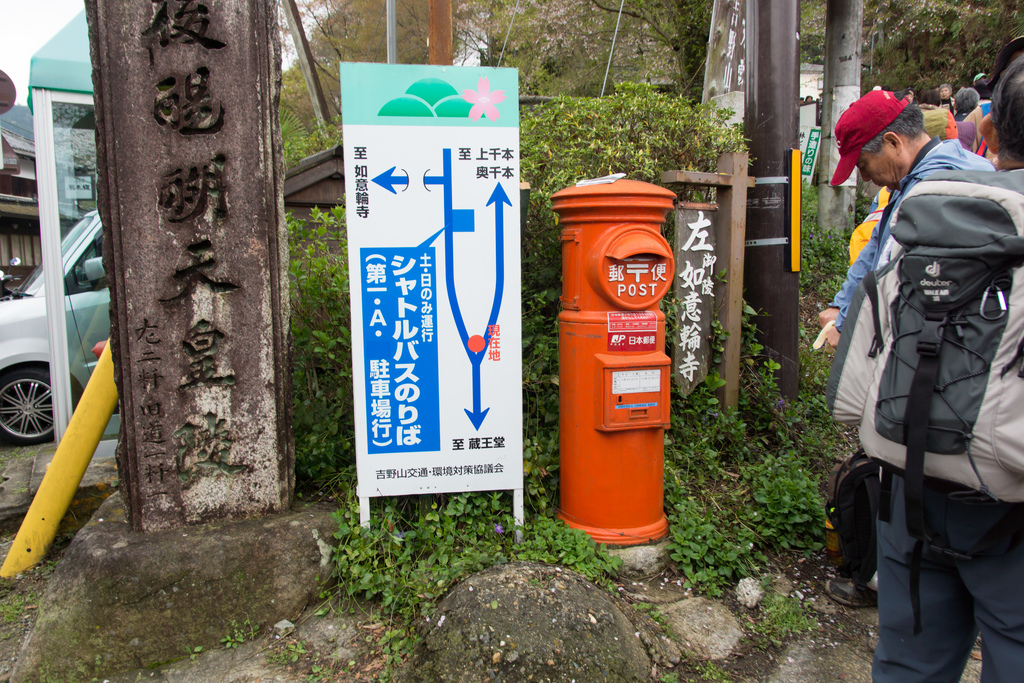Tree: (277, 0, 1023, 144)
